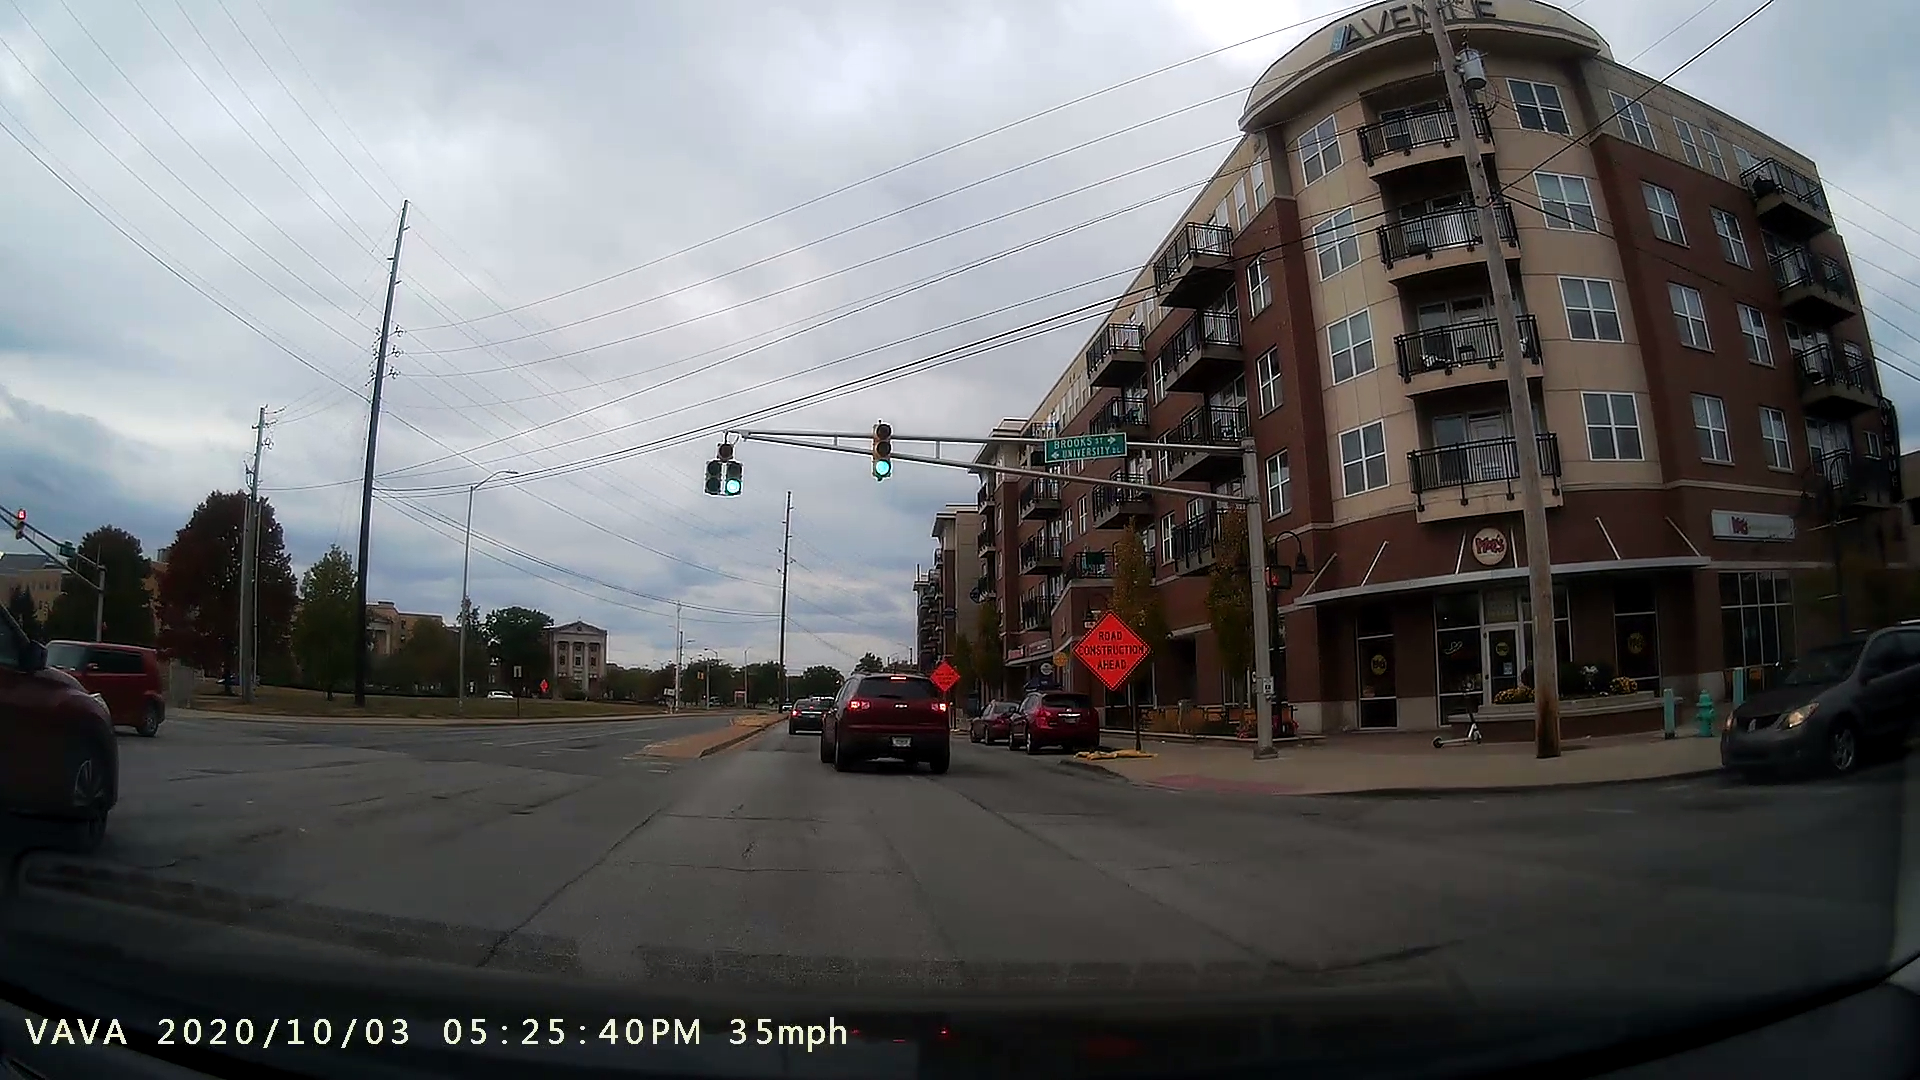ttcs_road_const_ahead: (1048, 589, 1171, 764)
